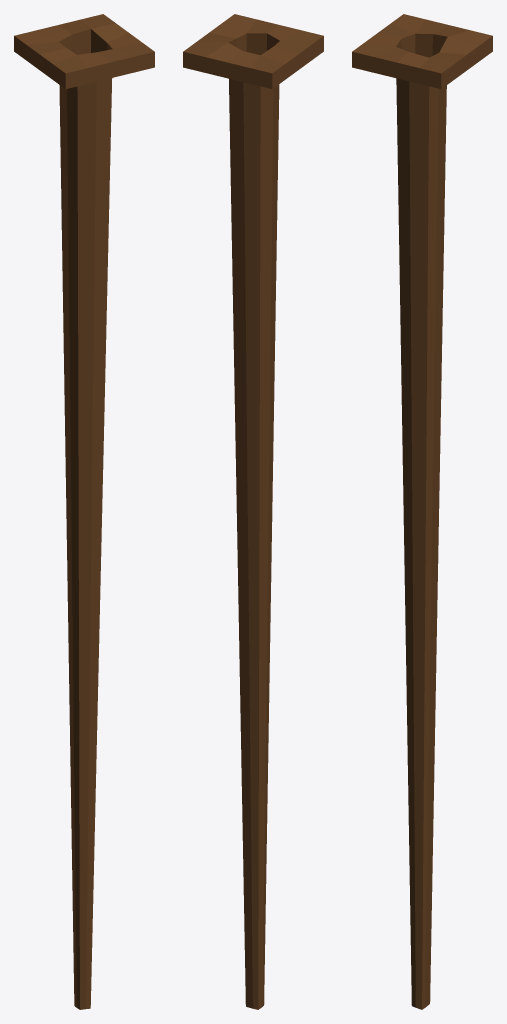
The model's file is CaveGroundStairs.fbx.
3 views of the same model, side by side, from view 1: azimuth 30°, elevation 25°; view 2: azimuth 150°, elevation 25°; view 3: azimuth 330°, elevation 25° (orthographic).
Visible parts, largest first — view 1: Cube.008; view 2: Cube.008; view 3: Cube.008.
Part boxes in pixels (bbox=[...]): Cube.008: bbox=[14, 14, 154, 1009]; Cube.008: bbox=[183, 14, 323, 1009]; Cube.008: bbox=[352, 14, 492, 1009].
Bounding box in the file's own units: 200 × 2072 × 200.
